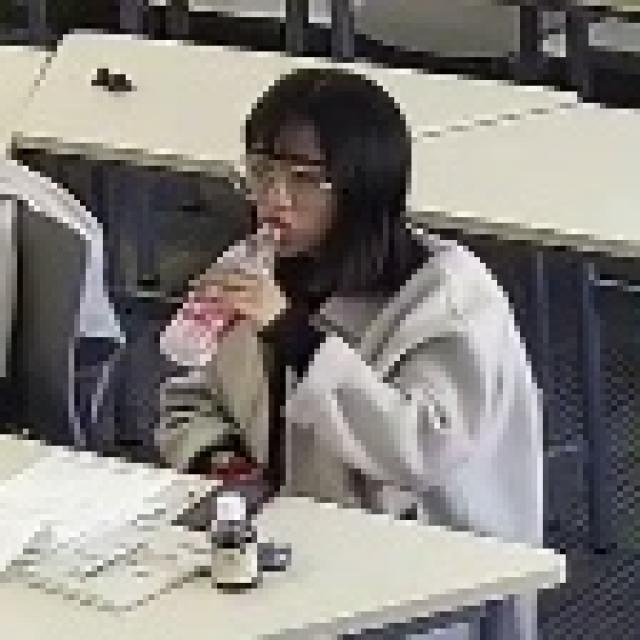drink: (156, 74, 552, 507)
